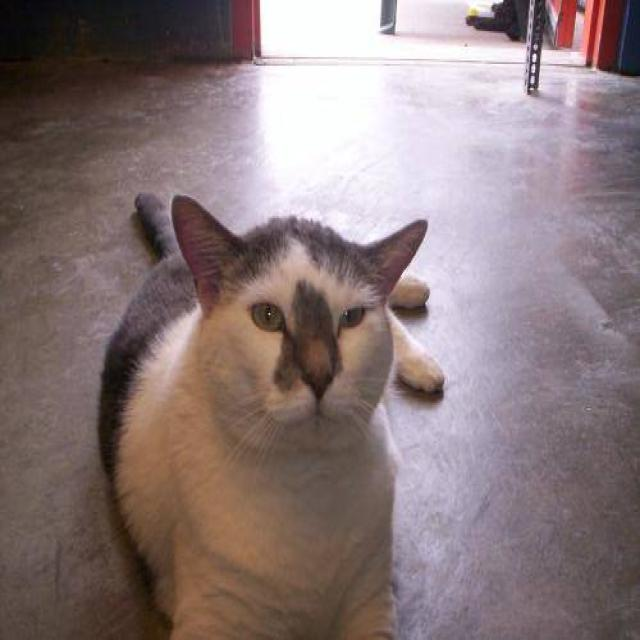cat: (98, 189, 446, 638)
